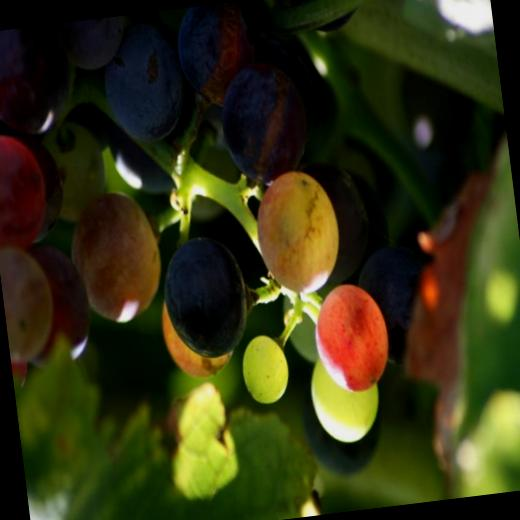Orange: (64, 183, 166, 326), (214, 52, 314, 191), (159, 228, 256, 363), (247, 162, 342, 298), (98, 16, 190, 148), (356, 240, 439, 370), (172, 0, 258, 116), (308, 282, 392, 396), (0, 22, 79, 141), (301, 164, 374, 289), (300, 386, 386, 480), (36, 119, 110, 222), (30, 241, 95, 358), (0, 128, 65, 243), (306, 352, 382, 447), (0, 242, 57, 366), (161, 298, 238, 384), (0, 128, 49, 252), (102, 116, 175, 199), (55, 15, 128, 71), (236, 332, 290, 405), (59, 99, 117, 162)
